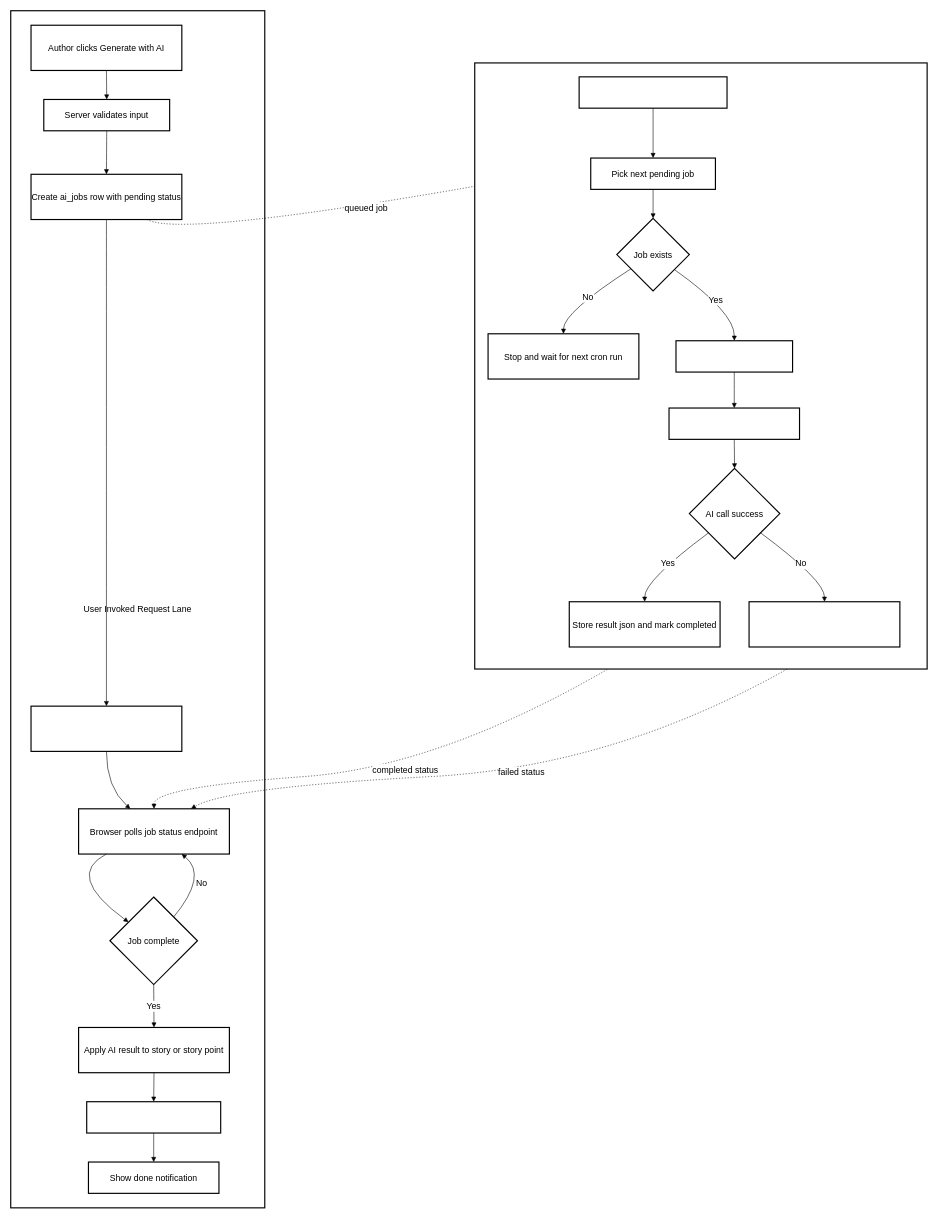
Image size: 937x1218. Some labels were removed from this diagram. Here are the shapes that lost their labels. From the top down, the box of each, then its label:
(578, 76, 727, 108): Cron runs every 30 seconds
(474, 62, 927, 669): Cron Invoked Worker Lane
(675, 340, 793, 372): Mark job as running
(668, 407, 800, 440): Call external AI service
(748, 601, 900, 647): Store error message and mark failed
(30, 705, 182, 752): Return immediately with job id
(86, 1101, 221, 1133): Set story status to draft
